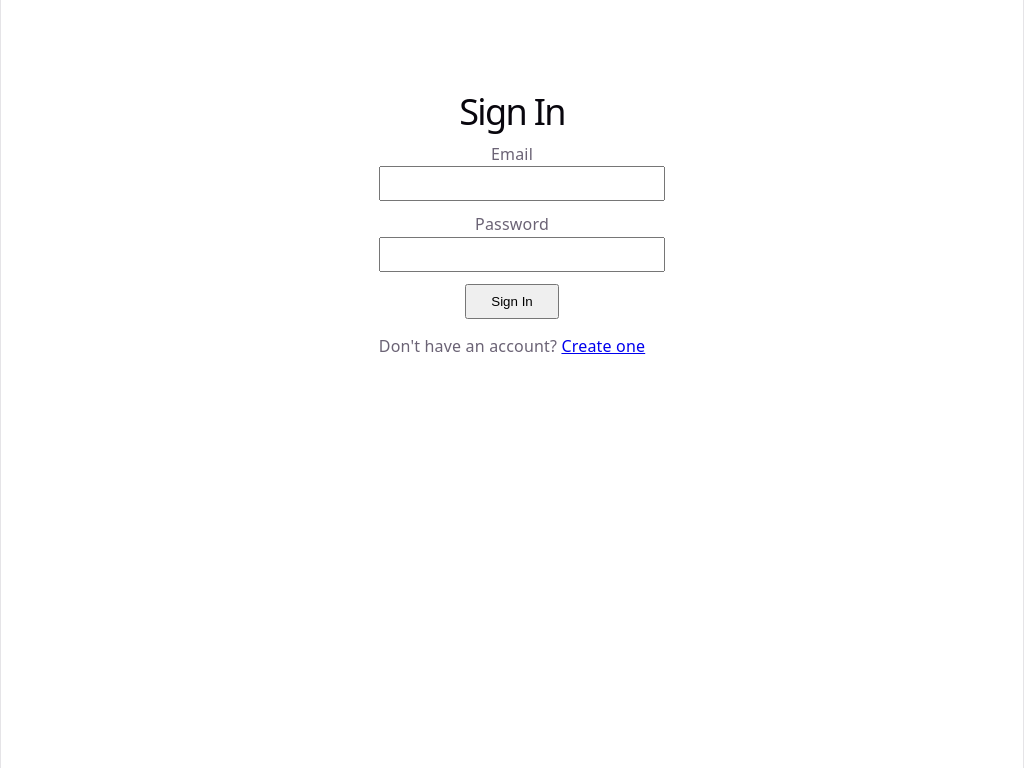
LoginPage › renders field-level errors on 400 response
Type "notanemail" into the field labelled "Email".
click(522, 184); type("notanemail")  # box [379, 166, 665, 201]
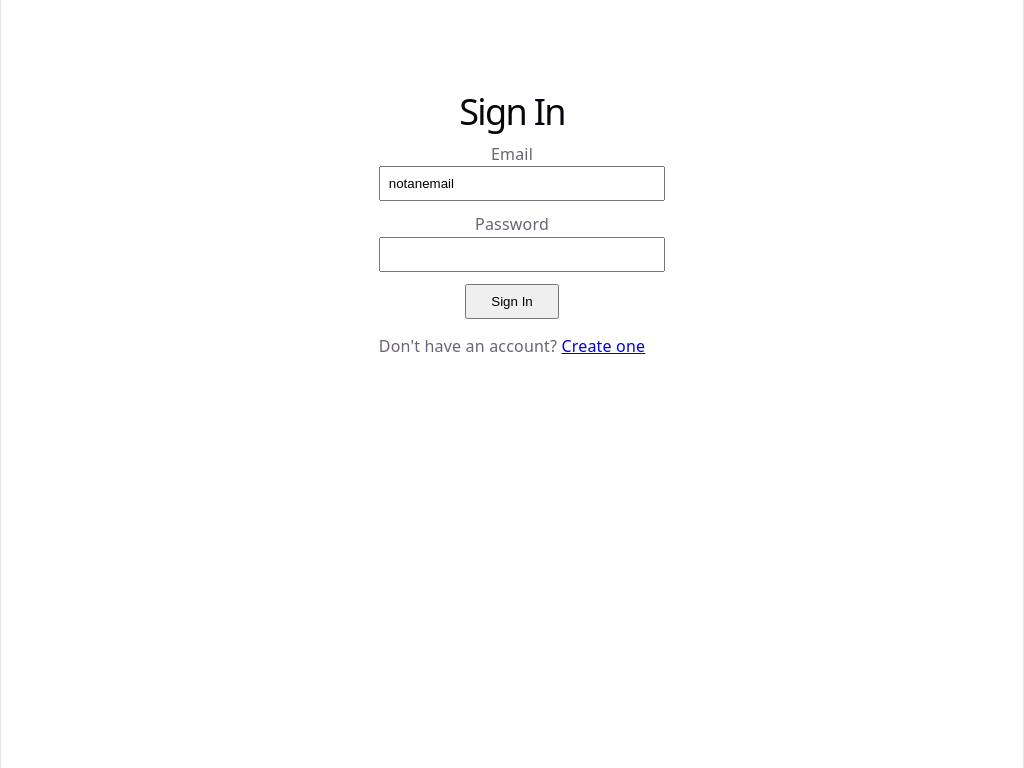
Click the button "Sign In".
click(512, 301)  # box [465, 284, 559, 319]
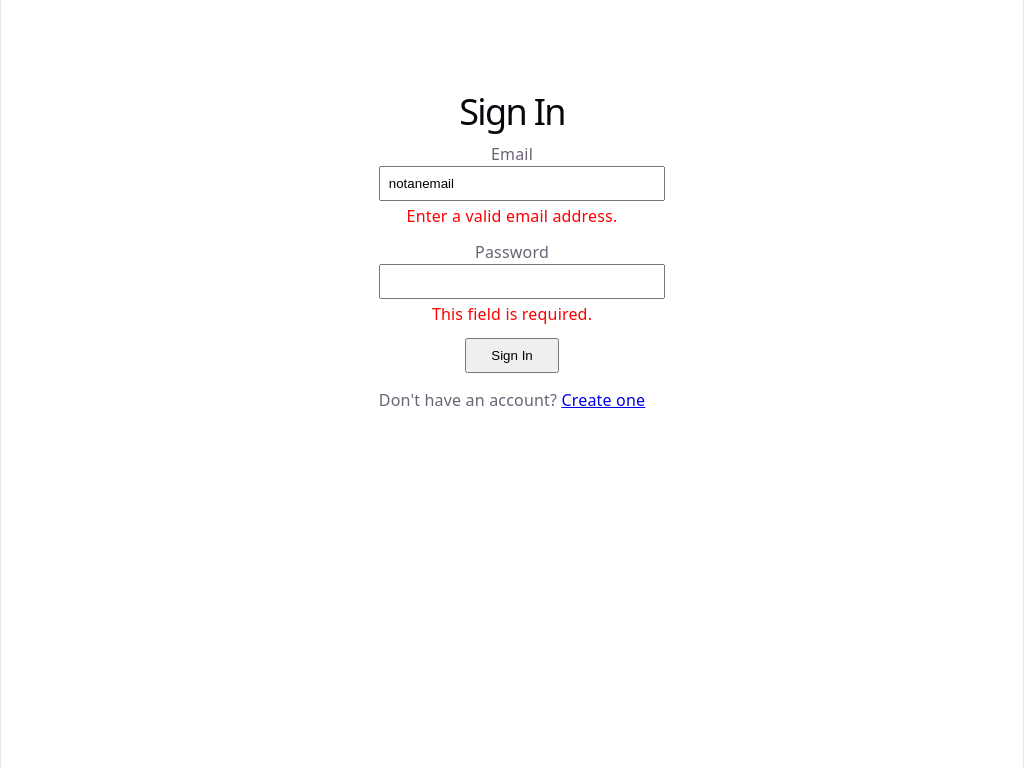
Now the text "Enter a valid email address." is shown, box [407, 205, 618, 227]
Now the text "This field is required." is shown, box [432, 303, 592, 325]
